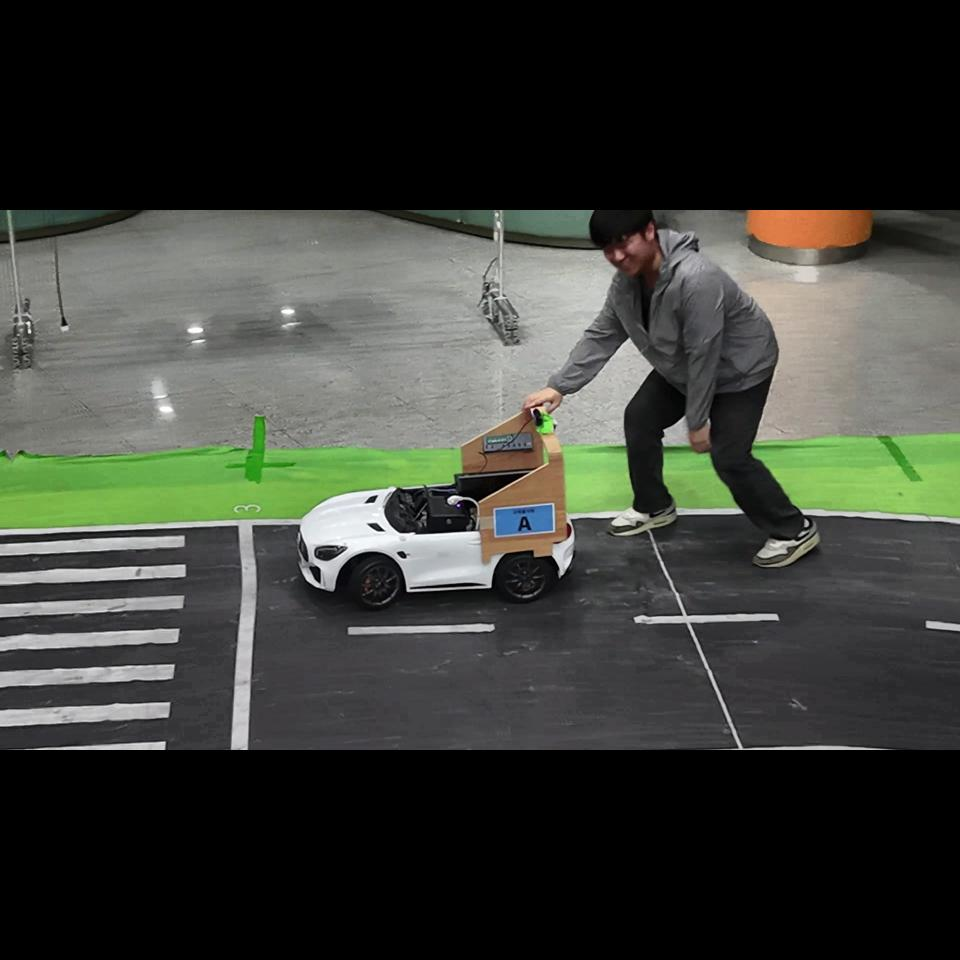broken_line: (348, 623, 495, 635), (633, 614, 780, 625), (925, 620, 960, 632)
crosswalk: (0, 535, 186, 750)
